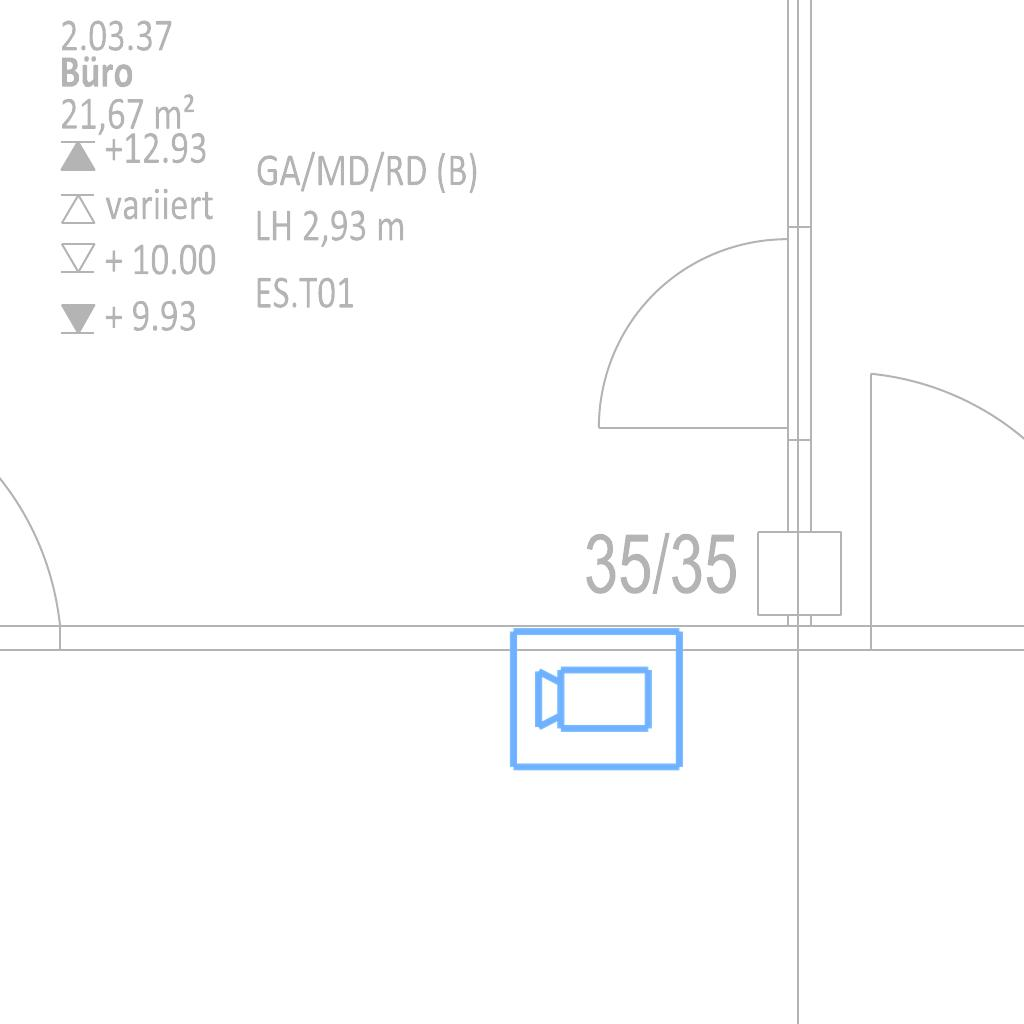KFO_Kamera_mit_Festobjektiv: (506, 621, 688, 775)
